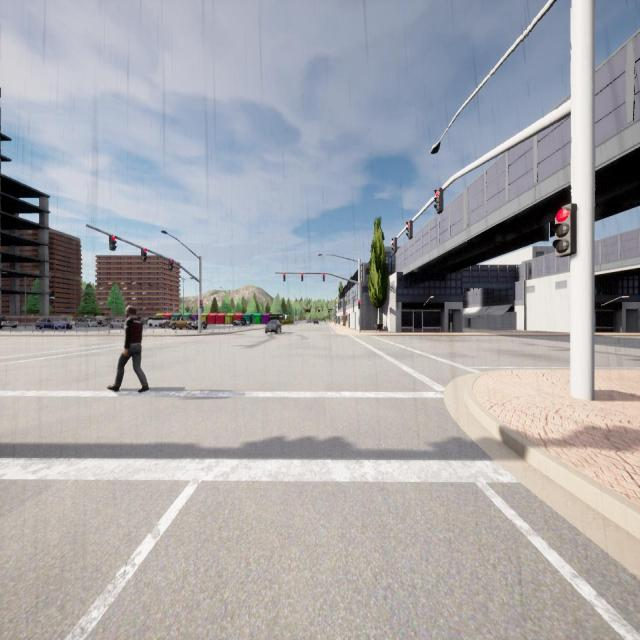Pedestrian: (107, 305, 149, 392)
Vehicle: (34, 316, 72, 330), (170, 316, 192, 330), (74, 316, 97, 329), (264, 319, 282, 335), (0, 316, 19, 329), (148, 317, 168, 328), (190, 320, 207, 330), (110, 319, 124, 329), (232, 318, 246, 326), (99, 316, 108, 326), (159, 321, 170, 328), (313, 319, 319, 325), (246, 320, 250, 326)
traffic_light: (552, 203, 576, 257), (434, 188, 444, 214), (406, 220, 413, 240), (109, 235, 117, 251), (391, 237, 397, 254), (141, 248, 147, 260), (168, 258, 174, 270), (283, 272, 286, 282), (200, 300, 203, 308), (301, 272, 303, 282), (358, 300, 360, 309), (322, 273, 324, 281)
